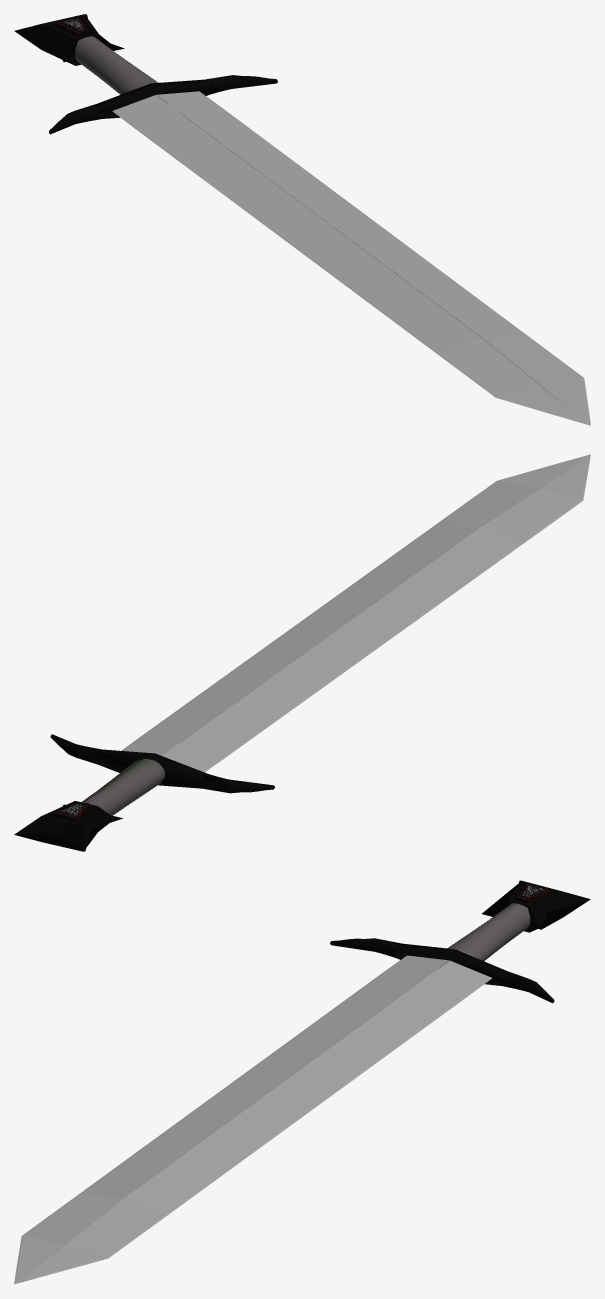
The model's file is sword.fbx.
The picture shows the model from 3 angles, top to bottom: view 1: azimuth 30°, elevation 25°; view 2: azimuth 150°, elevation 25°; view 3: azimuth 330°, elevation 25°; orthographic projection.
Parts seen in each view (by area): view 1: Cube.004; view 2: Cube.004; view 3: Cube.004.
Boxes of the visible parts, box(x1,y1,x2,y2) form: Cube.004: box(14, 14, 590, 425); Cube.004: box(14, 454, 590, 851); Cube.004: box(14, 880, 590, 1284).
Size of the model in its own units: 62.07 by 8.68 by 258.
